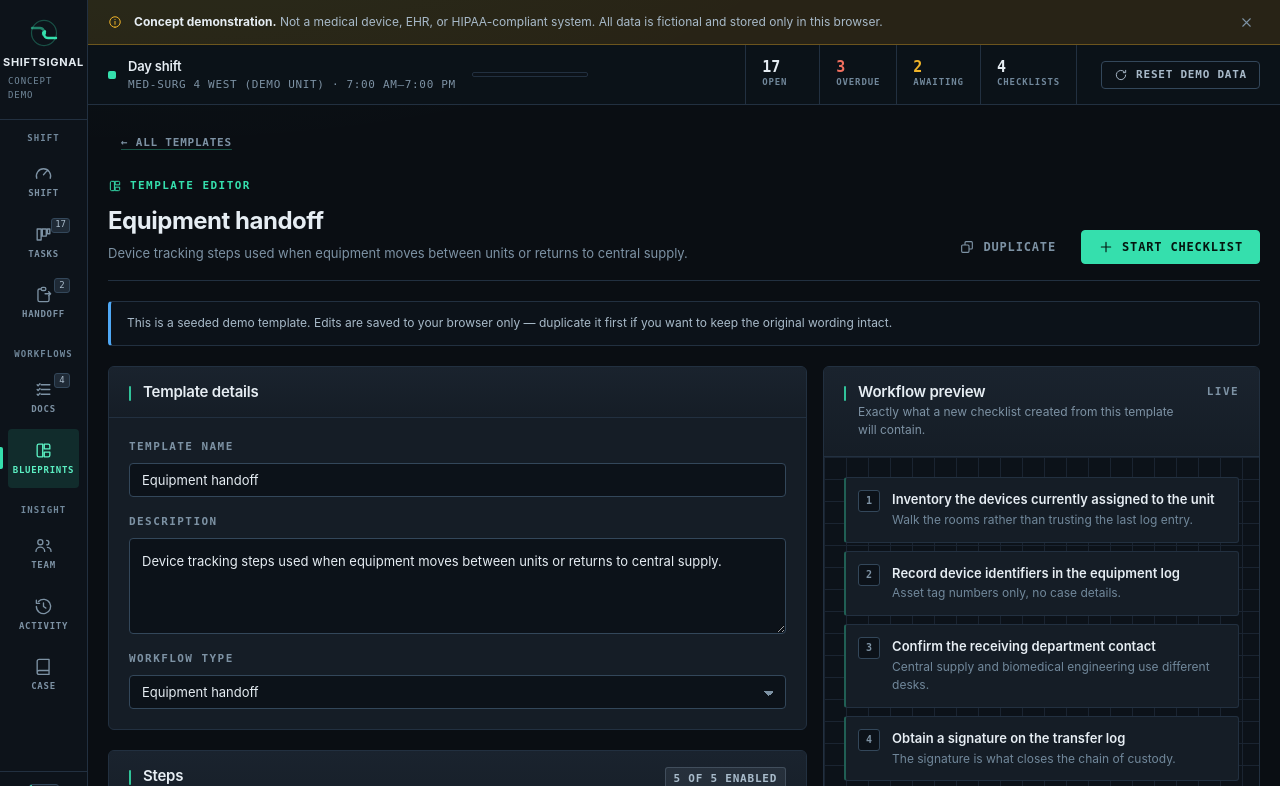
Test case: Template workflows › starts a checklist from the template and navigates to it
Click the button "Start checklist": (1170, 247) [1081, 230, 1260, 264]
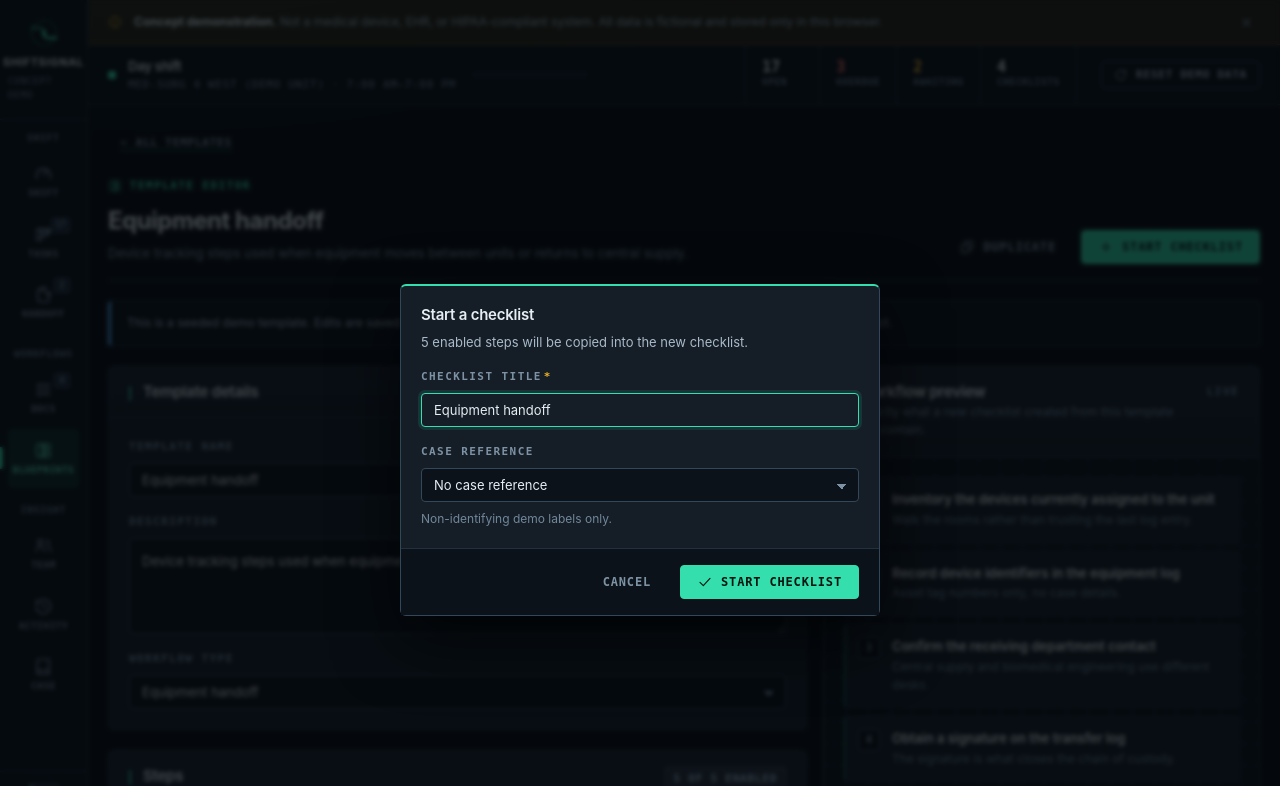
Replace the text in the field labelled "Checklist title*" with "Equipment handoff — Demo Case F": (640, 410) [421, 393, 859, 427]
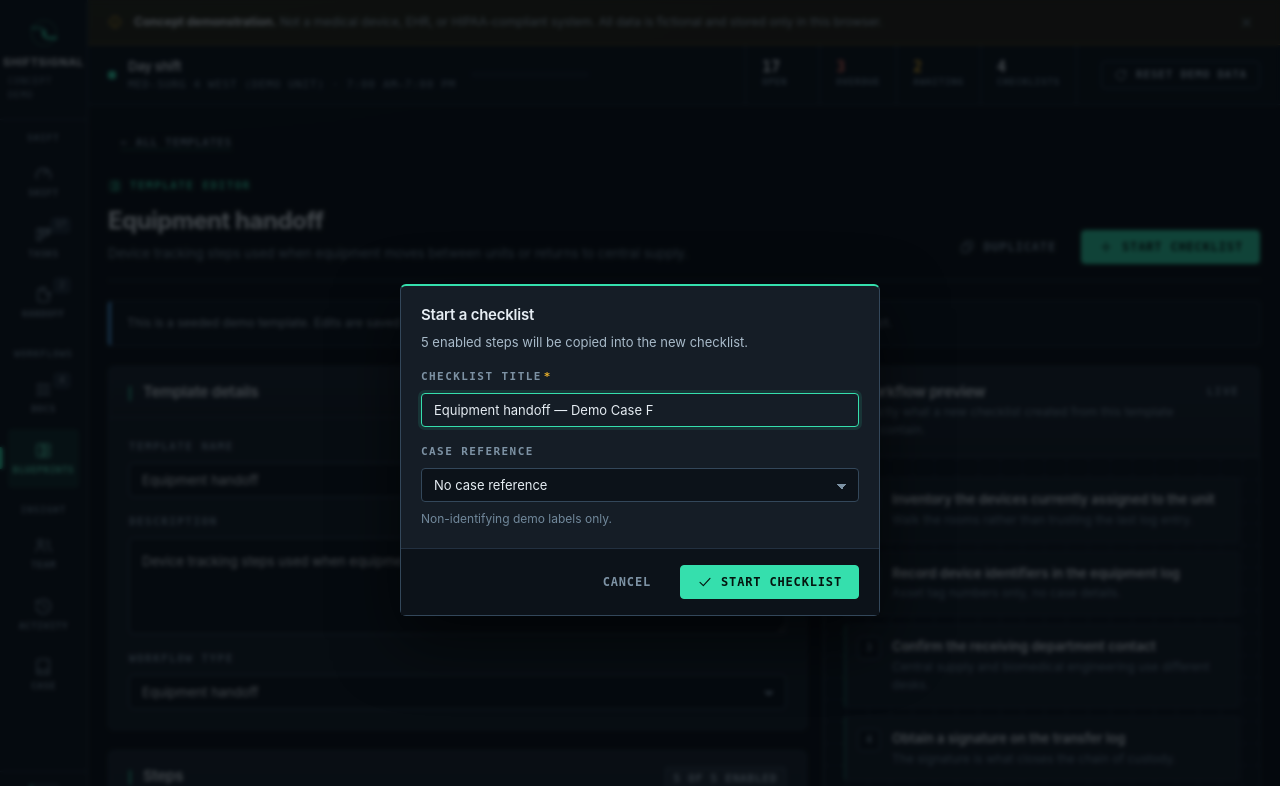
Click the button "Start checklist": (770, 582) [680, 565, 859, 599]
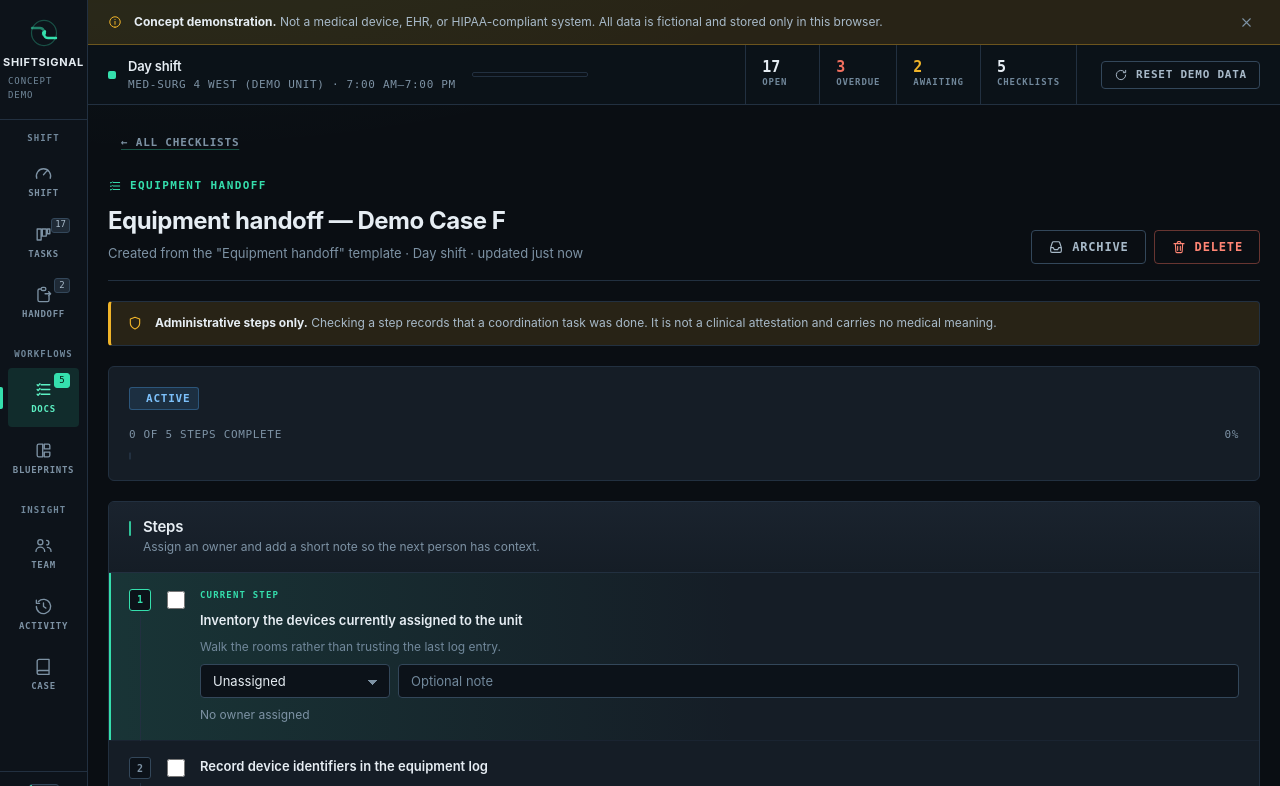
Expected: the heading "Equipment handoff — Demo Case F" is shown, [108, 206, 505, 235]
Expected: the text "0 of 5 steps complete" is shown, [129, 426, 282, 444]
